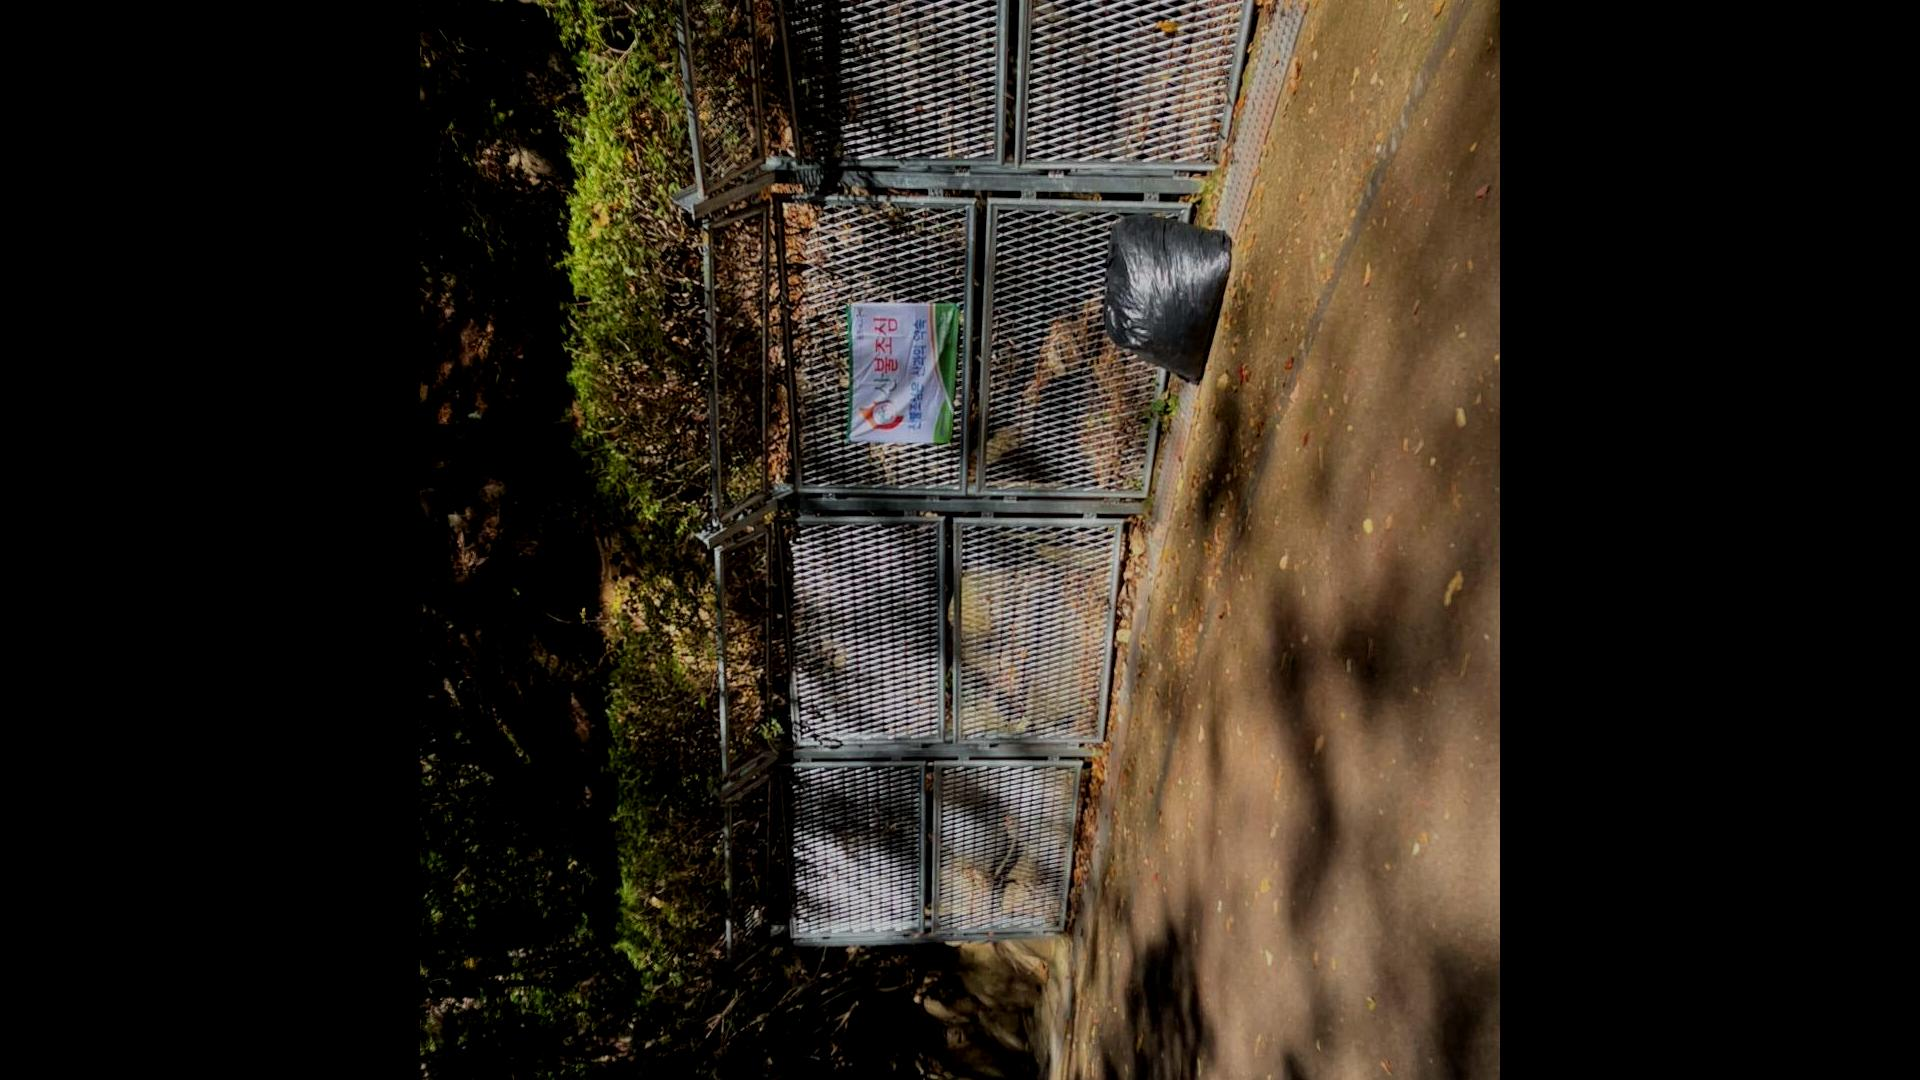black_bag: (1091, 210, 1236, 389)
